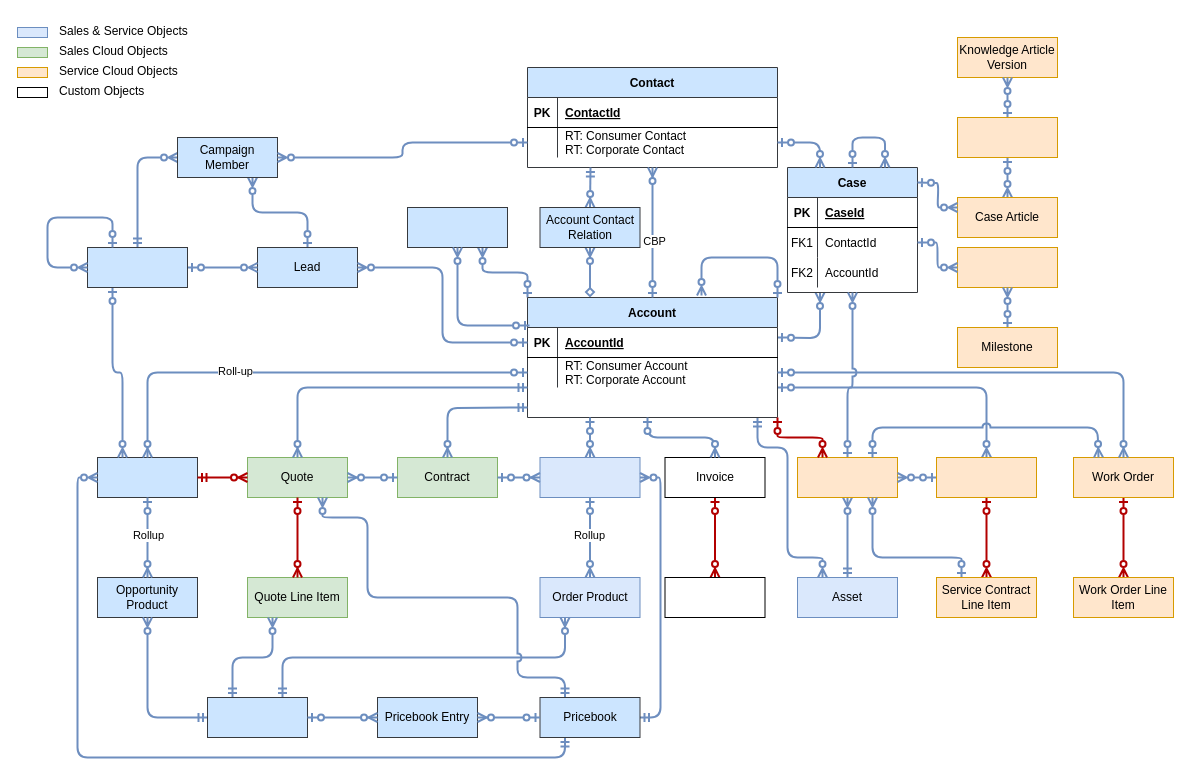
Some shapes in this 1191 by 784 pixel diagram are drawn without their labels. Each missing label, with the centre of its shape:
"Account Relationship" belongs at (457,227).
"Campaign" belongs at (137,267).
"Case Milestone" belongs at (1007,267).
"Entitlement" belongs at (847,477).
"Invoice Line Item" belongs at (714,597).
"Knowledge Article" belongs at (1007,137).
"Opportunity" belongs at (147,477).
"Order" belongs at (589,477).
"Product" belongs at (257,717).
"Service Contract" belongs at (986,477).
